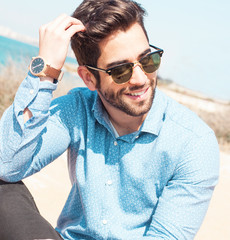young: (73, 12, 174, 115)
